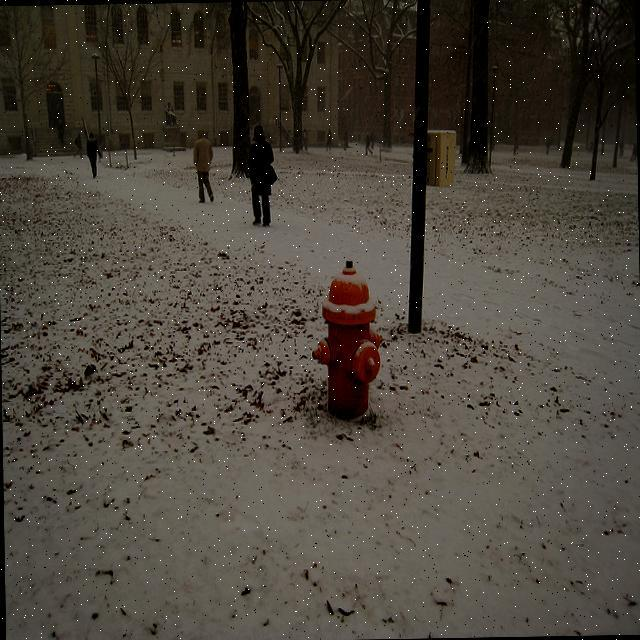fire_hydrant: (309, 255, 387, 420)
